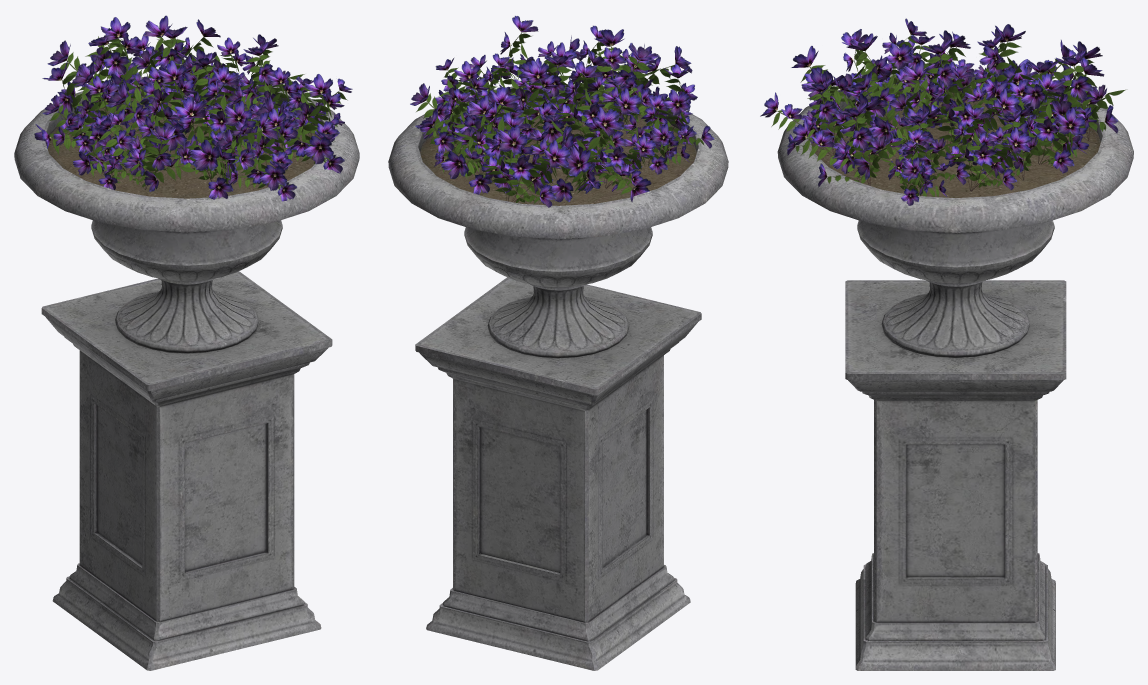
Rendered from green-garden-urn.glb.
3 renders of one model, left to right at view 1: azimuth 30°, elevation 25°; view 2: azimuth 150°, elevation 25°; view 3: azimuth 270°, elevation 25°, orthographic. The views are drawn at different scales.
Visible parts, largest first — view 1: GardenUrn_GardenUrn_0, Frowers_Flowers_0; view 2: GardenUrn_GardenUrn_0, Frowers_Flowers_0; view 3: GardenUrn_GardenUrn_0, Frowers_Flowers_0.
Boxes of the visible parts, x1,y1,x2,y2 form: GardenUrn_GardenUrn_0: (14, 76, 359, 670); Frowers_Flowers_0: (34, 15, 352, 201); GardenUrn_GardenUrn_0: (388, 84, 728, 670); Frowers_Flowers_0: (410, 16, 714, 207); GardenUrn_GardenUrn_0: (777, 72, 1133, 670); Frowers_Flowers_0: (760, 18, 1126, 205).
Size of the model in its own units: 0.8341 by 1.5 by 0.8826.
Materials: 2 (2 with a texture image).
